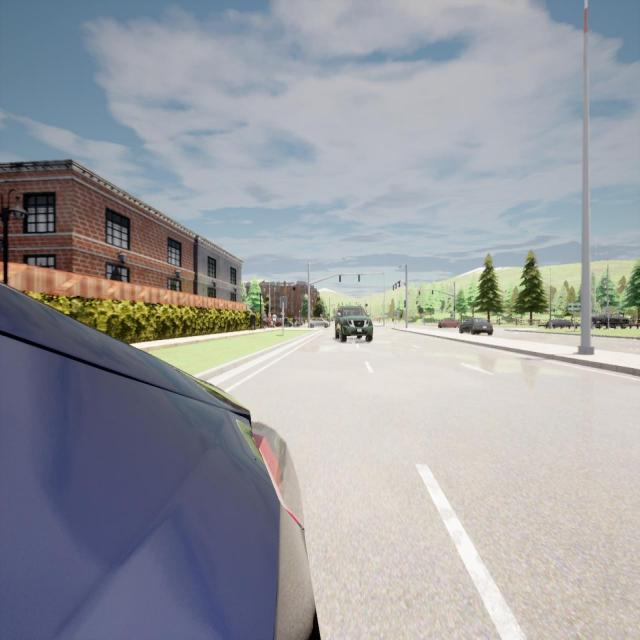Pedestrian: (249, 310, 257, 330), (260, 309, 267, 329), (271, 312, 278, 331), (284, 314, 289, 328), (292, 314, 295, 328), (302, 316, 306, 325)
Traffic_Signs: (567, 302, 581, 312), (280, 297, 287, 309), (392, 310, 397, 318)
Vehicle: (5, 285, 322, 640), (335, 307, 374, 343), (590, 313, 630, 329), (460, 317, 493, 336), (547, 316, 577, 331), (437, 316, 460, 328), (309, 316, 330, 328)
traffic_light: (398, 282, 401, 288), (358, 274, 360, 282), (339, 275, 341, 282), (395, 283, 397, 289), (404, 301, 406, 307), (393, 285, 394, 291), (419, 290, 420, 296), (432, 290, 433, 295), (454, 306, 455, 311)
